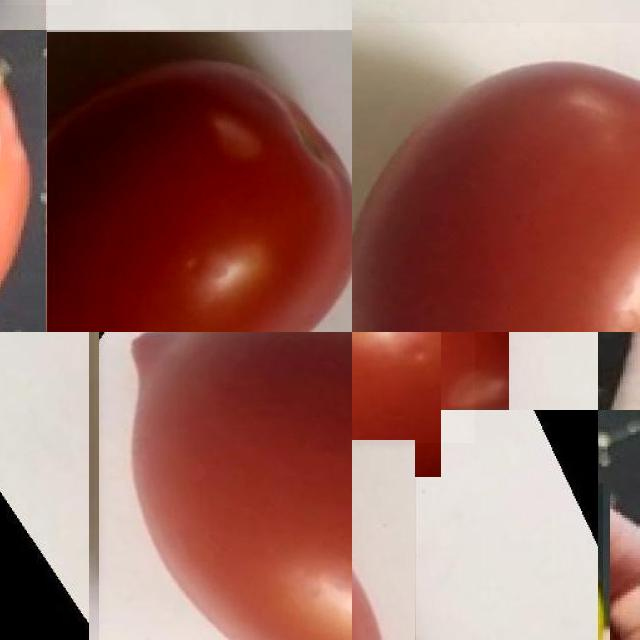Fresh Tomato: (47, 30, 352, 332), (352, 23, 640, 332), (93, 332, 352, 640), (352, 332, 475, 443)
